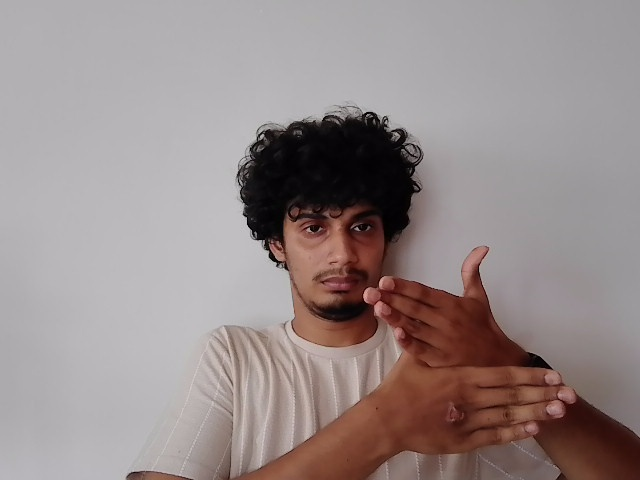busy: (364, 245, 581, 454)
